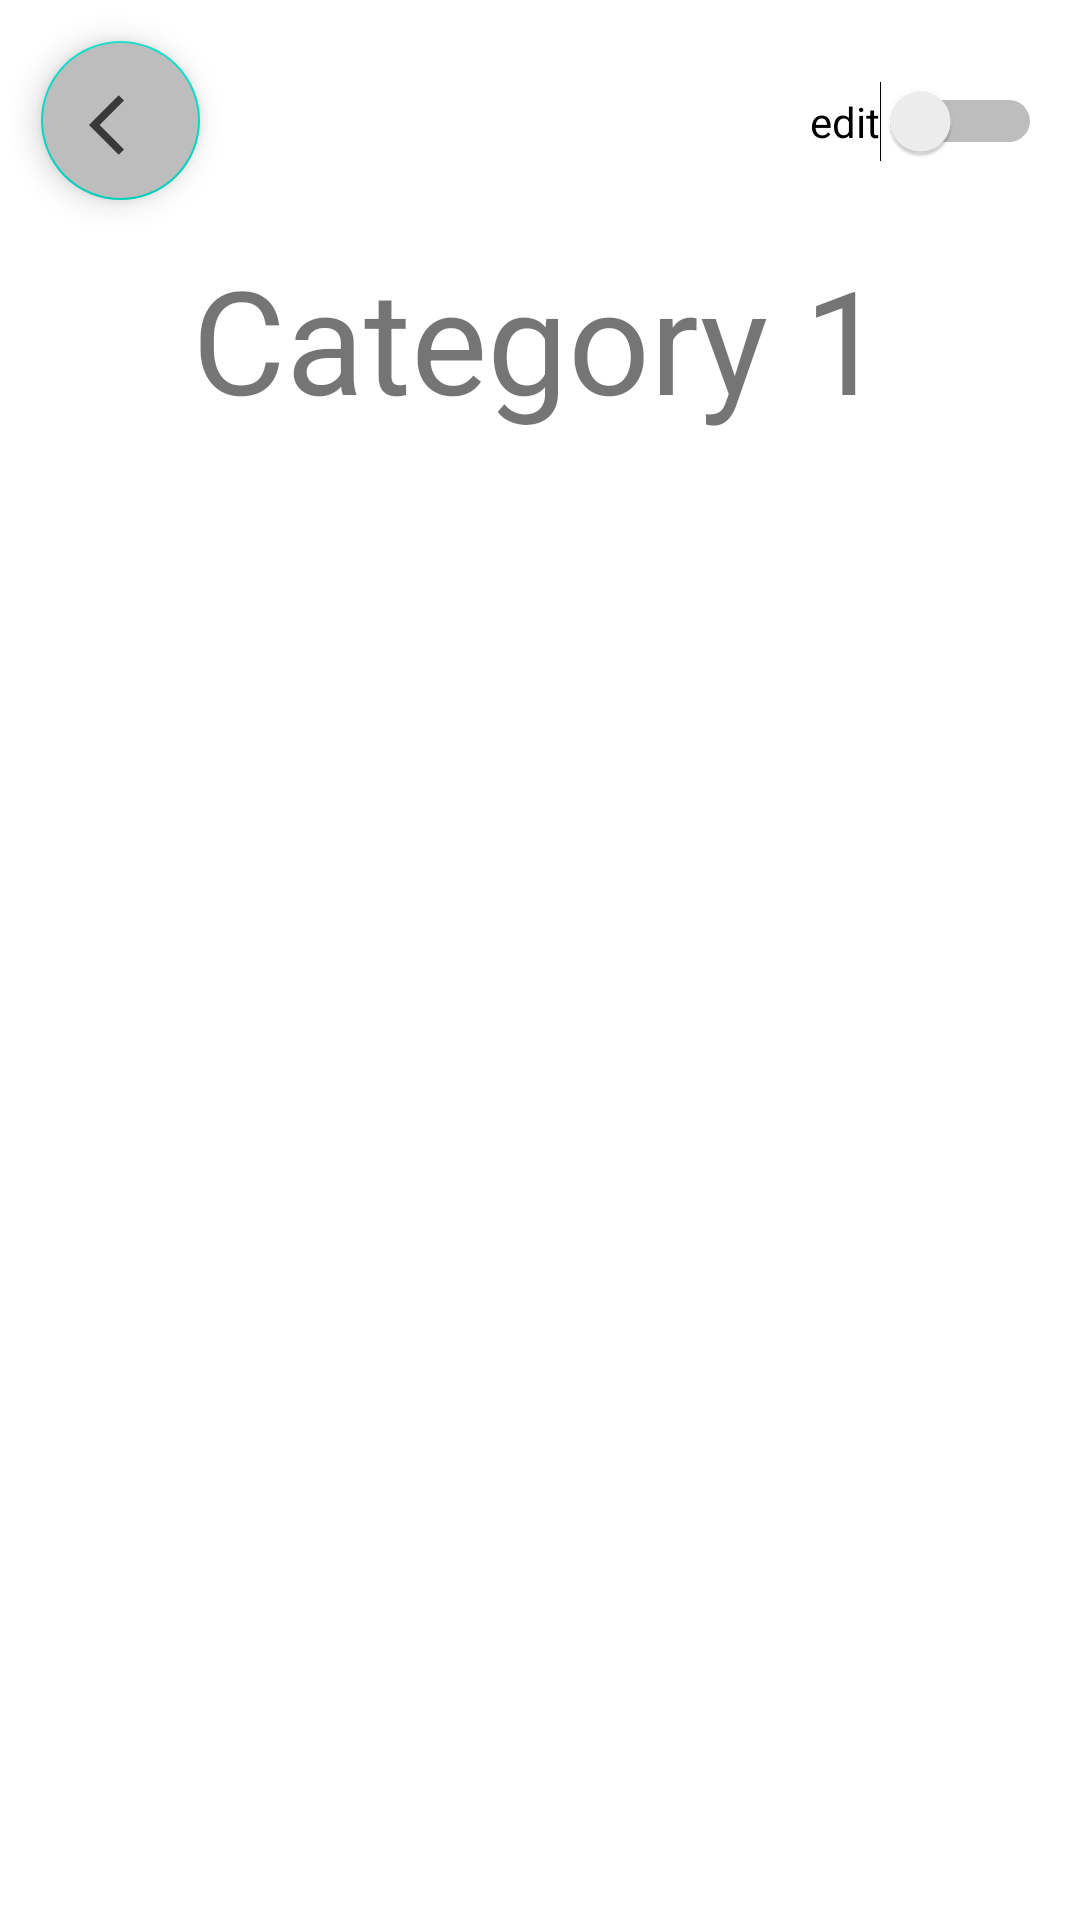

Named icons in this screenshot (1080*1920) and their centers, (x,y):
arrow back: (120,120)
